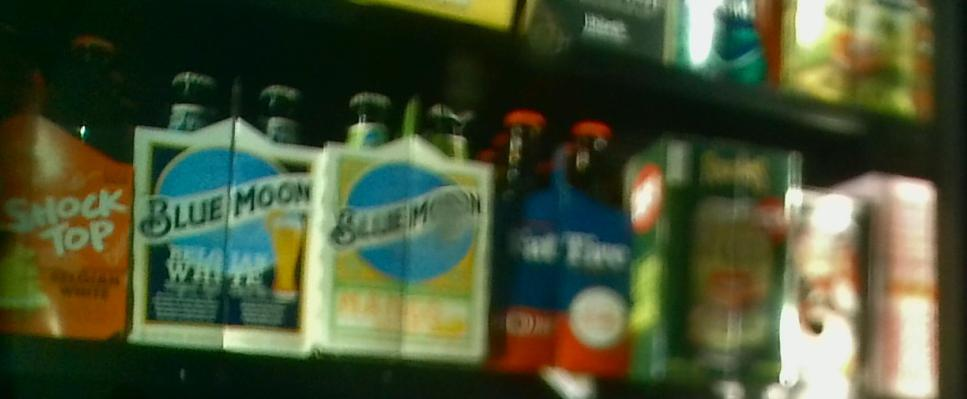bottle: (134, 58, 314, 357), (314, 78, 487, 357), (1, 37, 133, 343), (635, 130, 792, 387), (492, 99, 629, 368)
